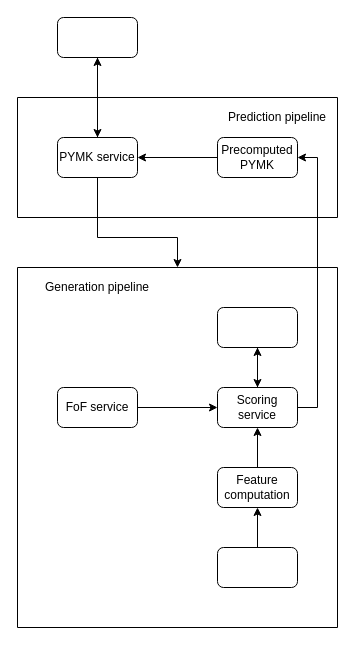
Some shapes in this 355 by 645 pixel diagram are drawn without their labels. Here are the shapes that lost their labels. From the top down, the box of each, then its label:
(56, 16, 138, 58): User
(216, 306, 298, 348): GNN model
(216, 546, 298, 588): Data lake
